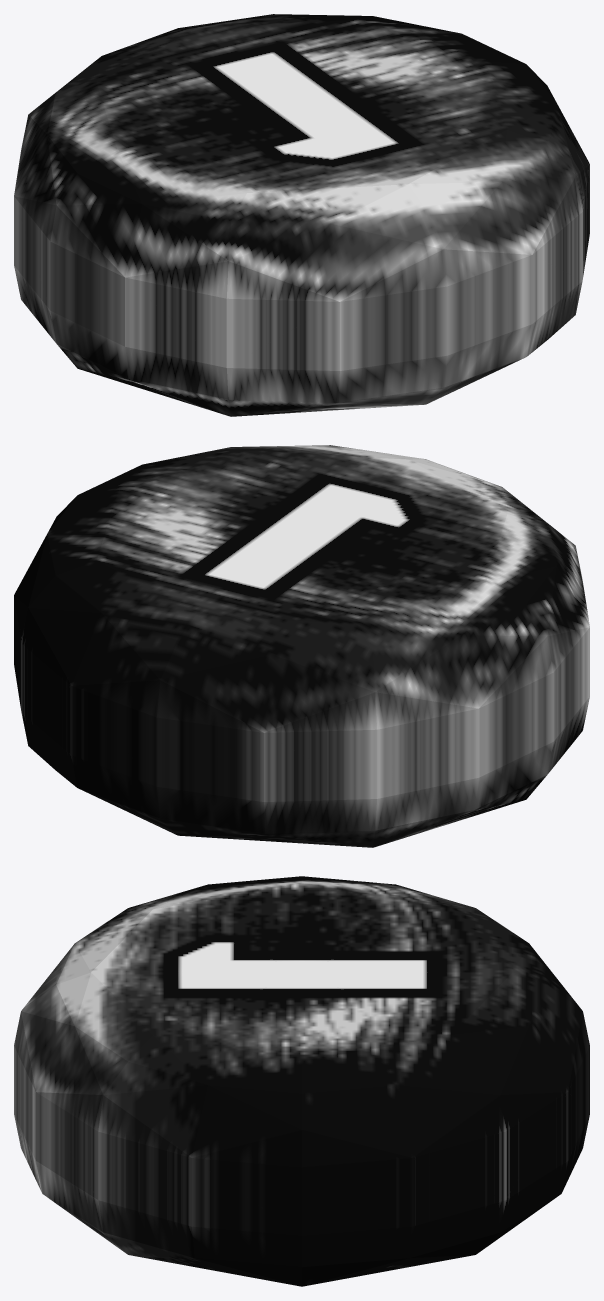
The model's file is white1.dae.
3 views of the same model, one above another, from view 1: azimuth 30°, elevation 25°; view 2: azimuth 150°, elevation 25°; view 3: azimuth 270°, elevation 25° (orthographic).
Parts seen in each view (by area): view 1: m0; view 2: m0; view 3: m0.
Part boxes in pixels (x1,y1,x2,y2): m0: (14, 14, 589, 416); m0: (14, 445, 589, 847); m0: (14, 876, 589, 1286).
Size of the model in its own units: 20.29 by 8 by 20.29.
1 material, 1 textured.
